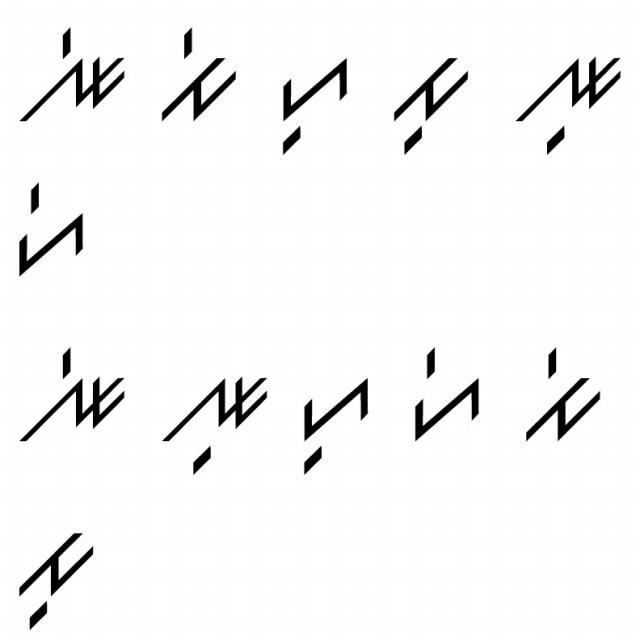he: (405, 339, 491, 447), (9, 178, 94, 277)
hu: (272, 37, 352, 157), (296, 375, 374, 479)
mbe: (140, 24, 245, 128), (524, 340, 612, 454)
mbu: (381, 52, 474, 165), (11, 527, 105, 635)
nde: (8, 19, 130, 131), (10, 334, 131, 444)
ndu: (150, 365, 276, 478), (499, 47, 627, 154)
